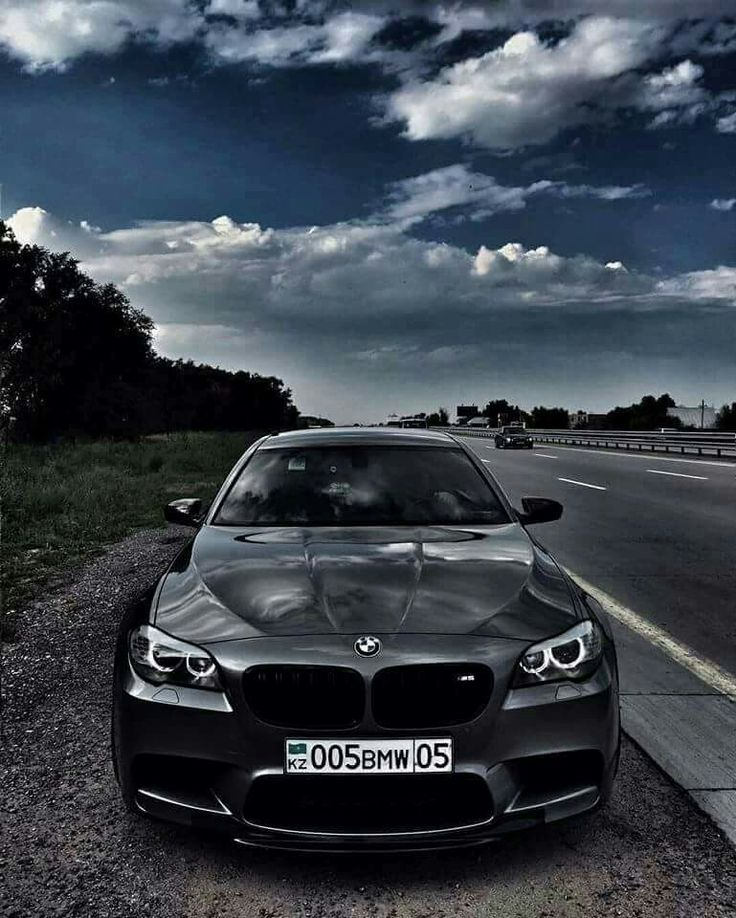car: (72, 425, 693, 870)
